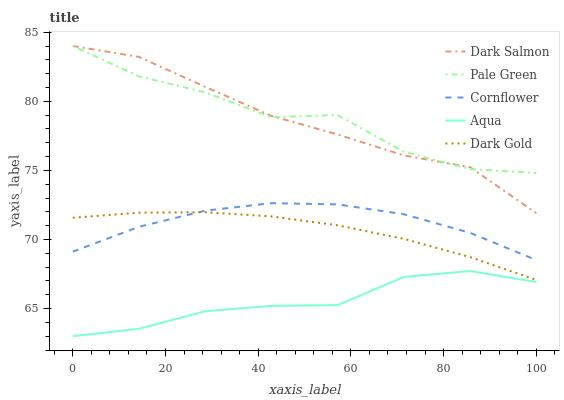axis: (54, 345, 564, 357), (43, 30, 54, 345)
legend: (443, 32, 559, 159)
line: (75, 44, 539, 216), (73, 44, 537, 176), (74, 209, 537, 283), (72, 268, 536, 338), (73, 199, 535, 262)
